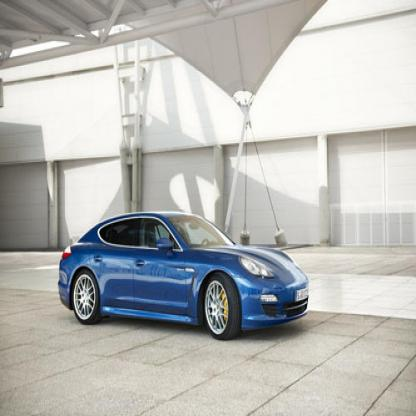Vehicle: (58, 213, 310, 342)
